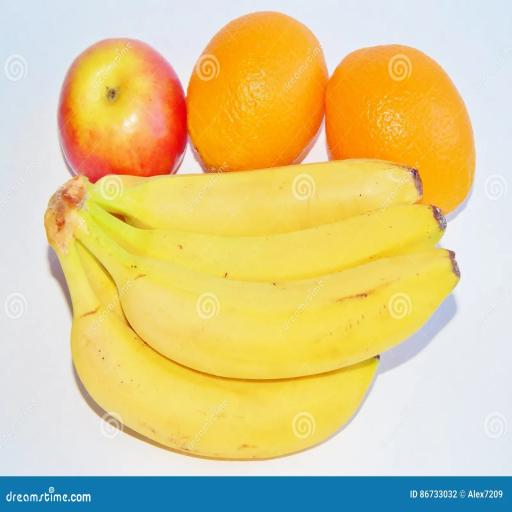apple: (58, 39, 187, 181)
banana: (46, 200, 378, 459), (63, 177, 459, 379), (90, 203, 446, 282), (88, 160, 421, 236)
orange: (326, 45, 475, 213), (187, 12, 328, 171)
